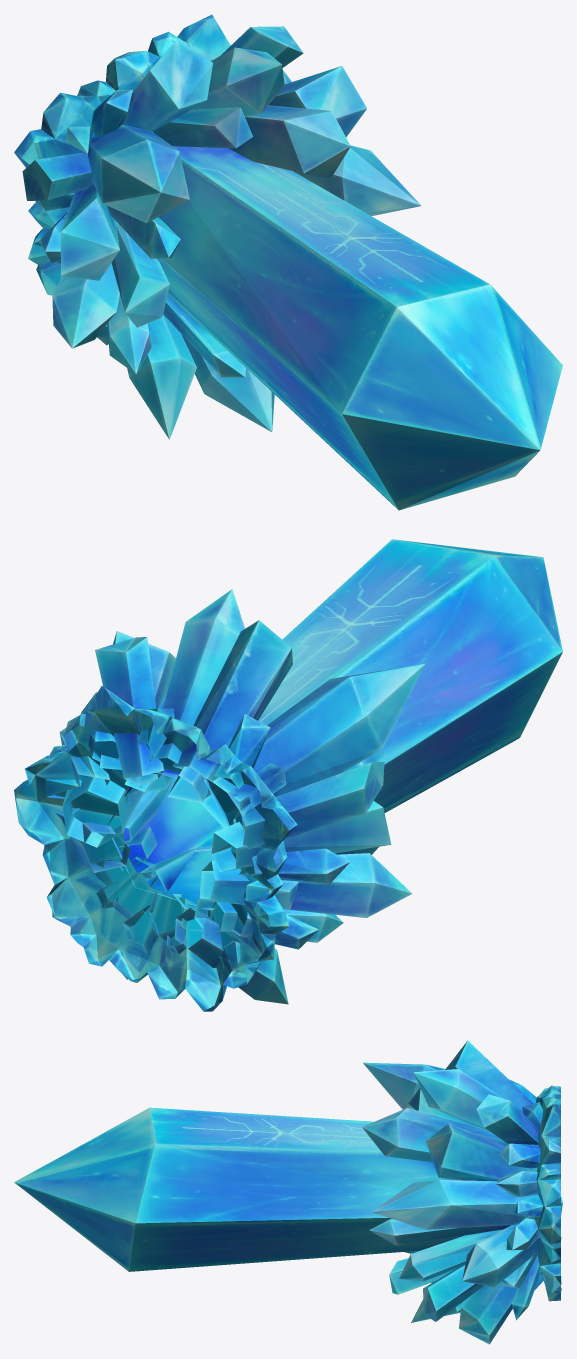
3 renders of one model, top to bottom at view 1: azimuth 30°, elevation 25°; view 2: azimuth 150°, elevation 25°; view 3: azimuth 270°, elevation 25°, orthographic. The views are drawn at different scales.
Parts seen in each view (by area): view 1: M615; view 2: M615; view 3: M615.
Part boxes in pixels (<box>): M615: <box>14,14,562,510</box>; M615: <box>14,539,562,1011</box>; M615: <box>14,1040,562,1344</box>.
Bounding box in the file's own units: 1.96 × 2.16 × 3.94.
